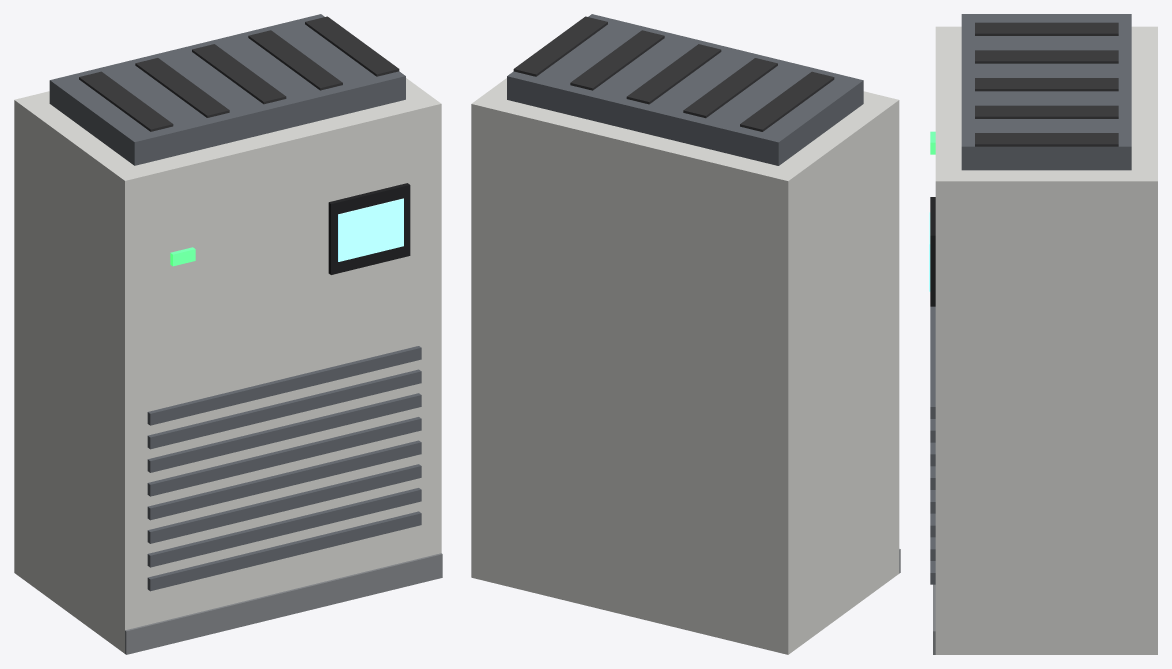
File: cooling_unit.glb
3 renders of one model, left to right at view 1: azimuth 30°, elevation 25°; view 2: azimuth 150°, elevation 25°; view 3: azimuth 270°, elevation 25°, orthographic.
Visible parts, largest first — view 1: cooling_unit; view 2: cooling_unit; view 3: cooling_unit.
Part boxes in pixels (left/top/right/bottom): cooling_unit: left=14, top=14, right=442, bottom=654; cooling_unit: left=471, top=14, right=900, bottom=654; cooling_unit: left=929, top=14, right=1157, bottom=654.
Size of the model in its own units: 1.4 by 2.11 by 0.875.
1 material, 1 textured.
